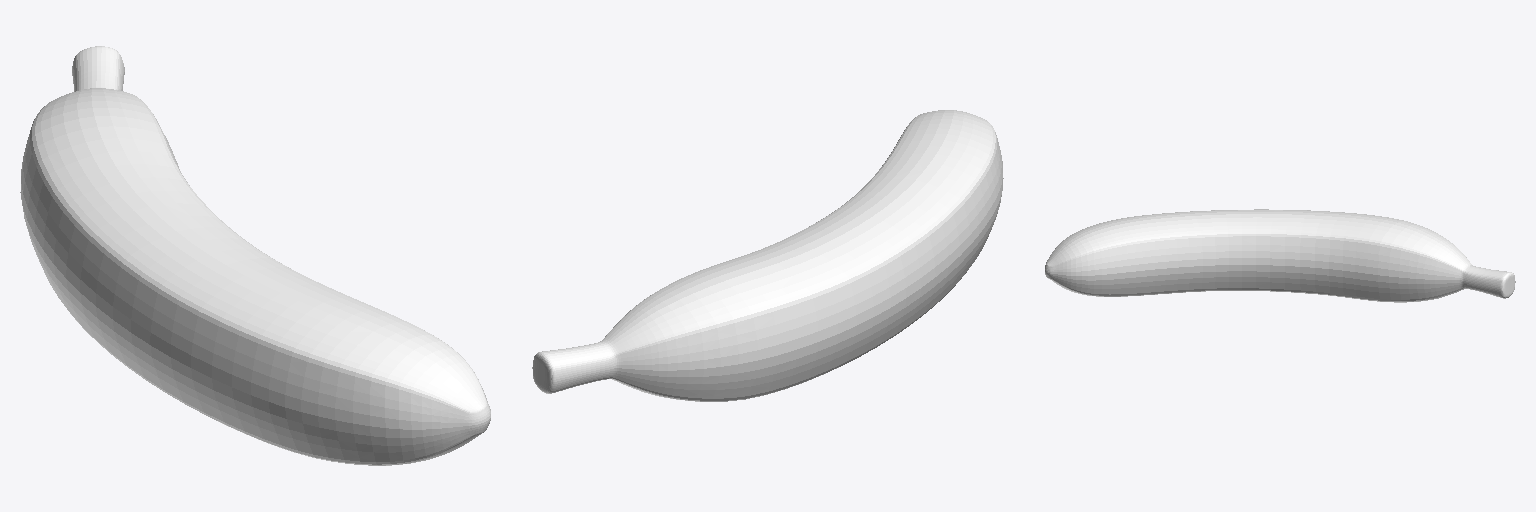
URDF robot description (model.urdf):
<robot name="model.urdf">
  <link name="baseLink">
    <contact>
      <friction_anchor/>
      <lateral_friction value="0.308"/>
      <spinning_friction value="0.001"/>
      <rolling_friction value="0.001"/>
      <contact_cfm value="0.0"/>
      <contact_erp value="1.0"/>
    </contact>
    <inertial>
       <origin rpy="0 0 0" xyz="0.0 0.0 0.0"/>
       <mass value=".0069"/>
       <inertia ixx="1e-3" ixy="0" ixz="0" iyy="1e-3" iyz="0" izz="1e-3"/>
    </inertial>
    <visual>
    <origin
        xyz="0 0 0"
        rpy="1.507 1.507 0" />
      <geometry>
        <mesh filename="banana.obj" scale="1 1 1"/>
      </geometry>
      <material name="white">
        <color rgba="1 1 1 1"/>
      </material>
    </visual>
    <collision>
      <geometry>
        <mesh filename="banana.obj" scale="1 1 1"/>
      </geometry>
    </collision>
  </link>
</robot>

--- What the picture shows (computed from the rendered views, not written in the file) ---
The picture shows the robot from 3 angles, left to right: view 1: azimuth 30°, elevation 25°; view 2: azimuth 150°, elevation 25°; view 3: azimuth 270°, elevation 25°; orthographic projection.
Model model.urdf with 1 links and 0 joints (none), rooted at baseLink, posed every joint at zero.
Links seen in each view (by area): view 1: baseLink; view 2: baseLink; view 3: baseLink.
Boxes of the visible links, left/top/right/bottom form: baseLink: left=20, top=46, right=490, bottom=465; baseLink: left=532, top=110, right=1003, bottom=401; baseLink: left=1045, top=209, right=1515, bottom=302.
Bounding box of the posed robot: 82.67 × 264 × 45.41 m (x, y, z).
1 mesh visuals loaded from 1 distinct referenced files (1 OBJ).